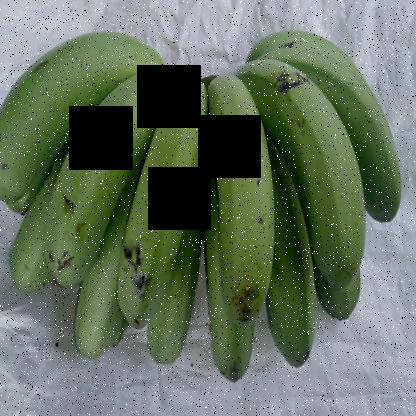unripe: (36, 61, 171, 288), (245, 50, 363, 292), (268, 30, 396, 226), (0, 5, 117, 209), (111, 82, 203, 330), (199, 69, 276, 331), (258, 171, 319, 387), (194, 274, 267, 393), (132, 264, 197, 378), (65, 267, 123, 358), (0, 217, 59, 298)
